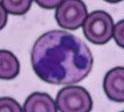N: (31, 30, 93, 84)
